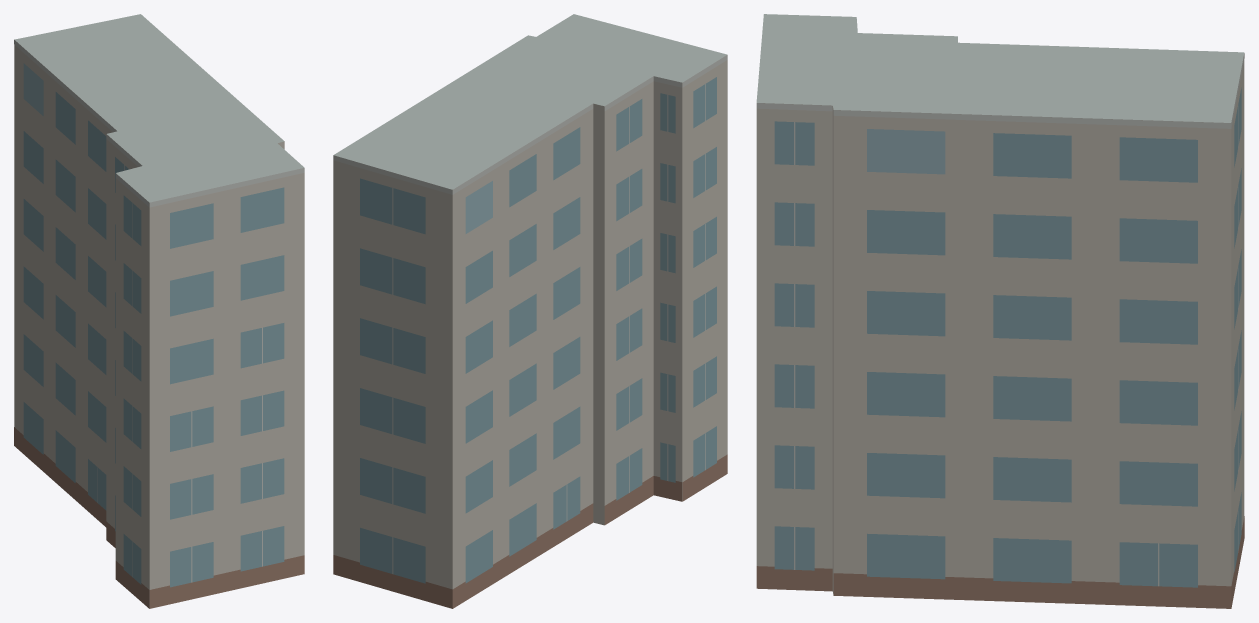
Rendered from survey-upis-32496187.glb.
3 views of the same model, side by side, from view 1: azimuth 30°, elevation 25°; view 2: azimuth 150°, elevation 25°; view 3: azimuth 270°, elevation 25° (orthographic). The views are drawn at different scales.
Visible parts, largest first — view 1: survey-upis-32496187.tmp; view 2: survey-upis-32496187.tmp; view 3: survey-upis-32496187.tmp.
Boxes of the visible parts, bbox=[...] form: survey-upis-32496187.tmp: bbox=[14, 14, 304, 608]; survey-upis-32496187.tmp: bbox=[333, 14, 727, 608]; survey-upis-32496187.tmp: bbox=[756, 14, 1244, 608].
Size of the model in its own units: 9.68 by 20.1 by 18.31.
